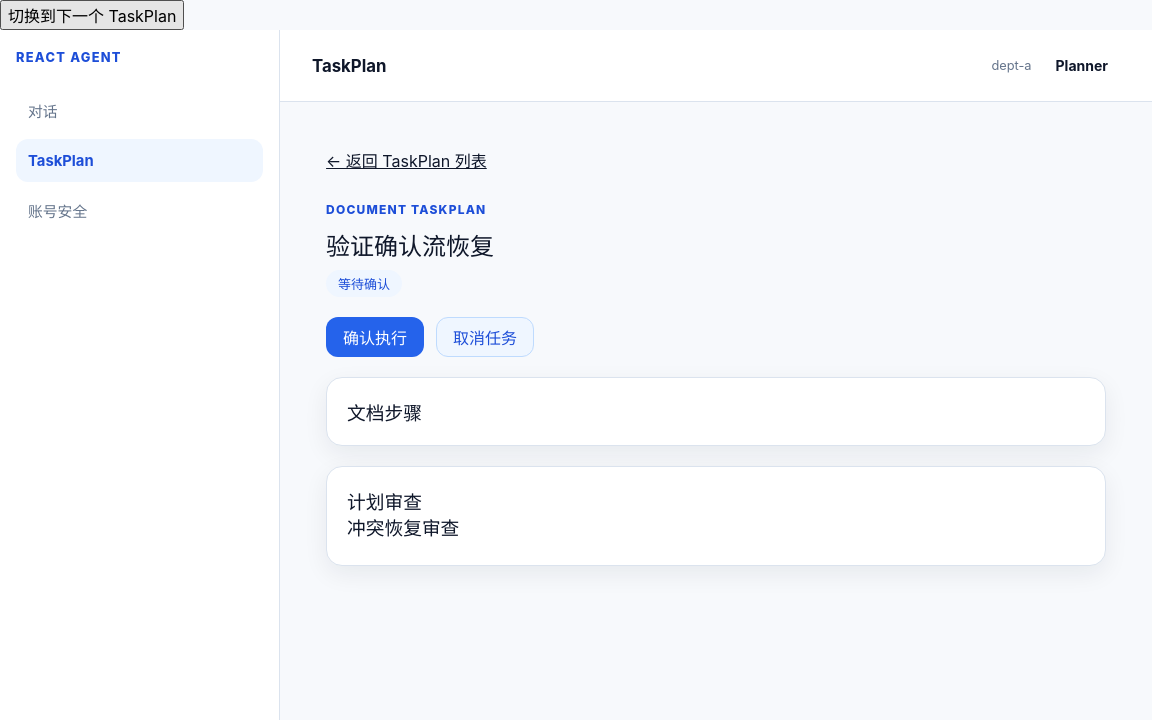
TaskPlan workspace › refetches a conflicting confirm without replaying the stream
Click the button "确认执行" at (375, 337), box [326, 317, 424, 357]
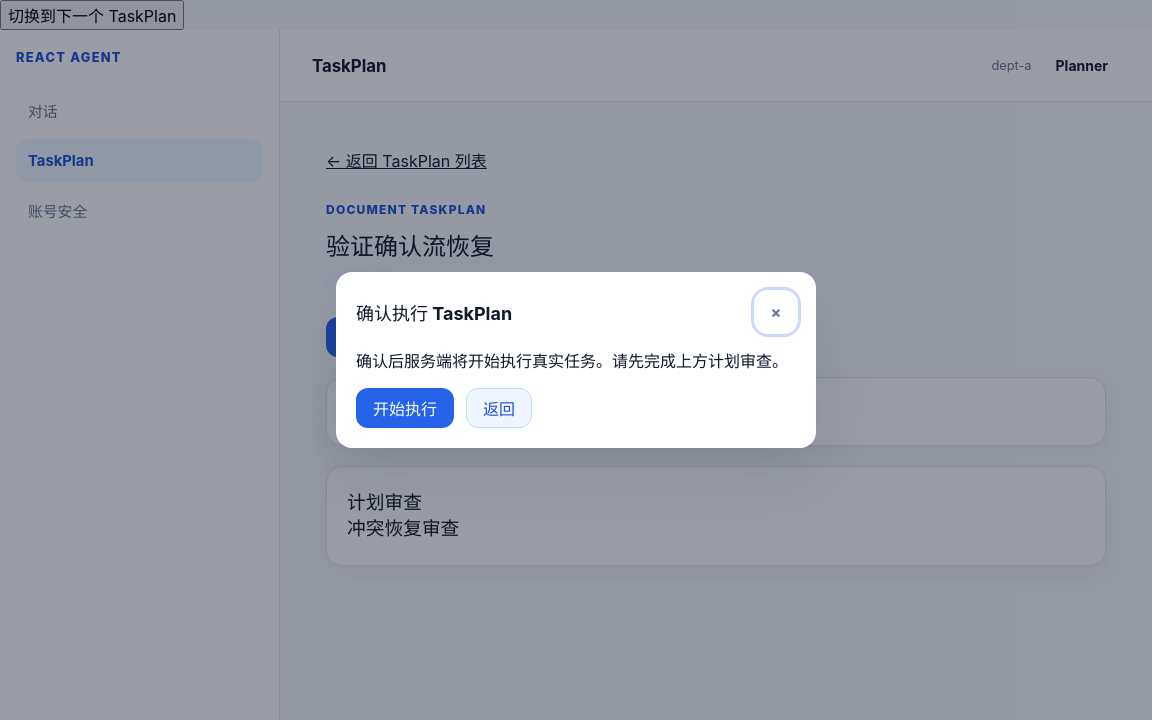
Click the button "开始执行" at (405, 408), box [356, 388, 454, 428]
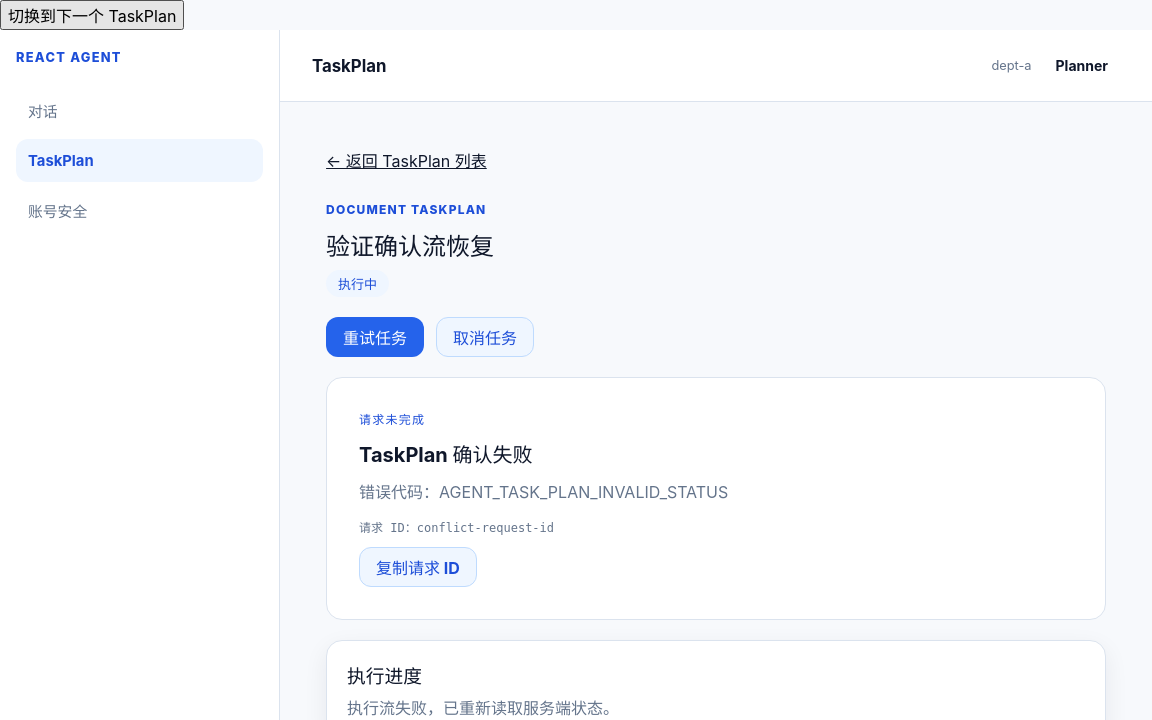
Check: the text "执行中" is shown, box [326, 270, 389, 297]
Check: the heading "TaskPlan 确认失败" is shown, box [359, 439, 533, 468]
Check: the text "错误代码：AGENT_TASK_PLAN_INVALID_STATUS" is shown, box [359, 480, 728, 506]
